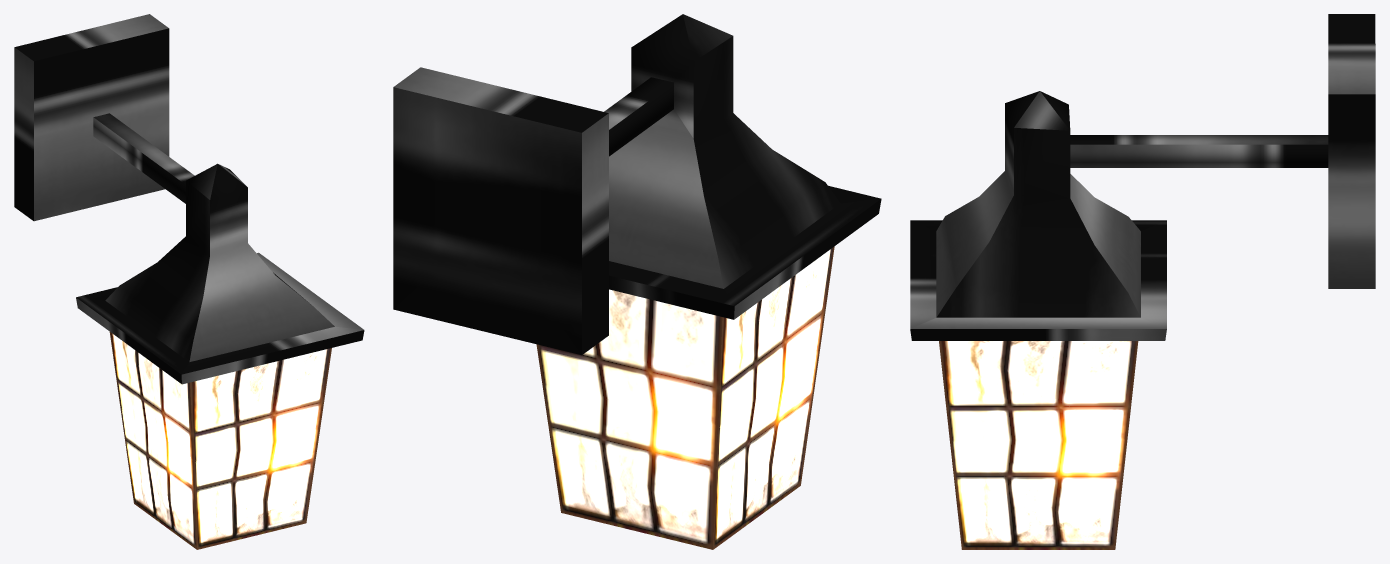
Rendered from wall_lightC.fbx.
3 views of the same model, side by side, from view 1: azimuth 30°, elevation 25°; view 2: azimuth 150°, elevation 25°; view 3: azimuth 270°, elevation 25° (orthographic). The views are drawn at different scales.
Parts seen in each view (by area): view 1: wall_lightC; view 2: wall_lightC; view 3: wall_lightC.
Part boxes in pixels (x1=…): wall_lightC: x1=14, y1=14, x2=364, y2=549; wall_lightC: x1=393, y1=14, x2=881, y2=549; wall_lightC: x1=910, y1=14, x2=1375, y2=549.
Size of the model in its own units: 38.73 by 77.14 by 70.21.
1 material, 1 textured.
